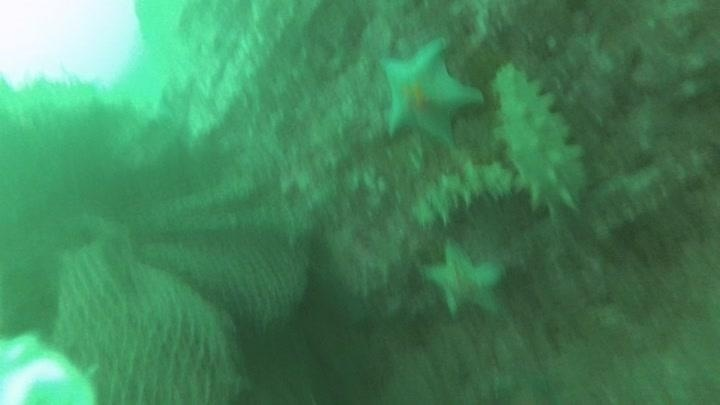holothurian: (488, 61, 589, 216), (406, 158, 519, 230)
starfish: (374, 35, 487, 152), (416, 238, 510, 323)
